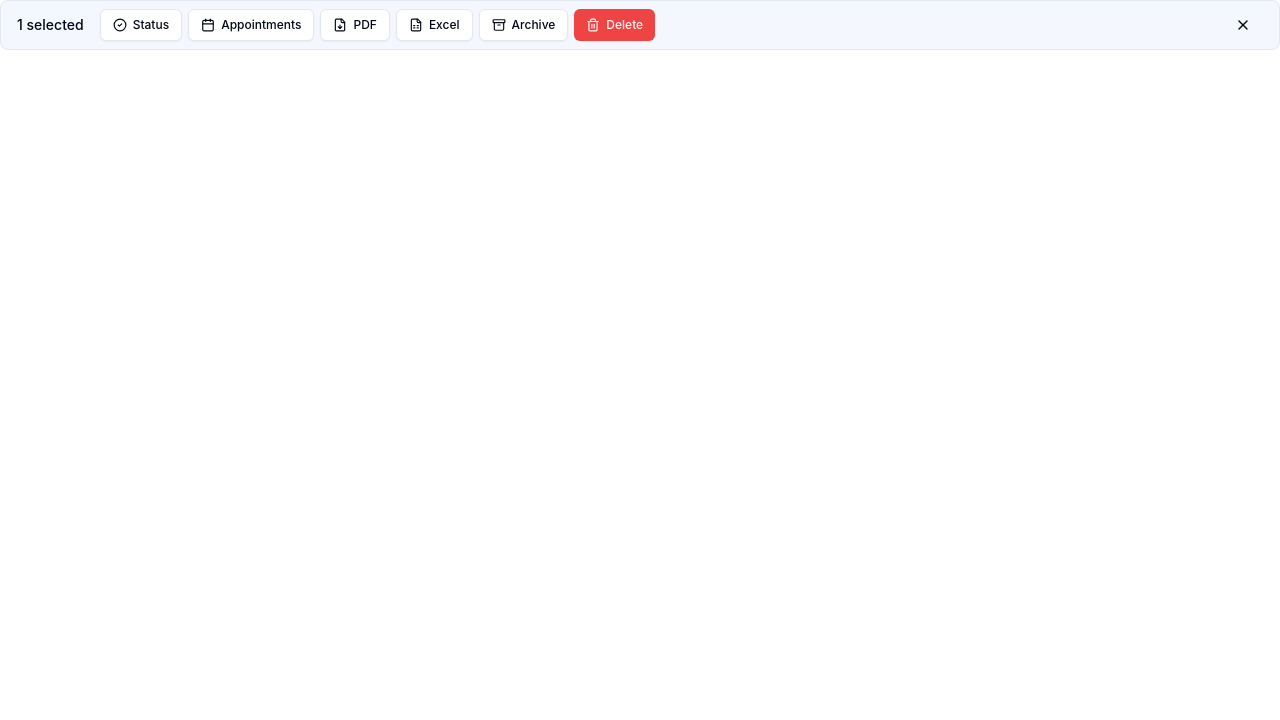
Test case: BulkActionToolbar › opens status change dialog on Status click
Click the button "Status": (141, 25) [100,9,182,41]
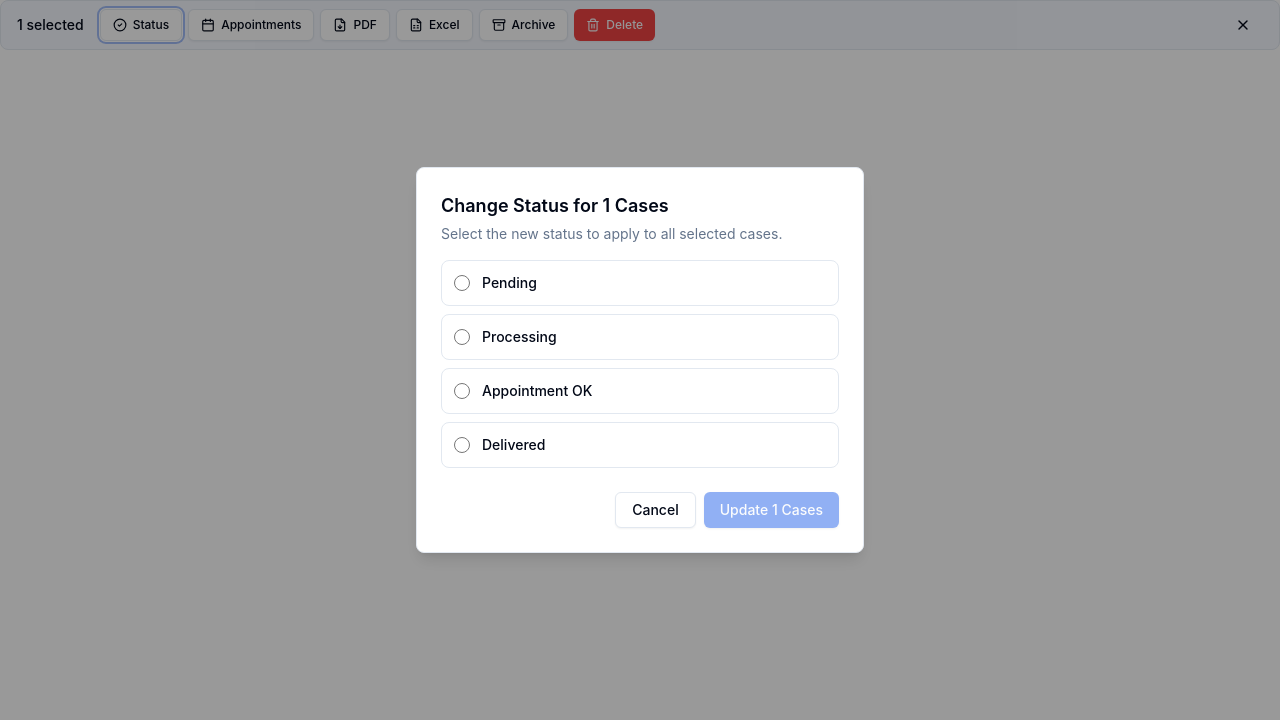
Check: the heading "Change Status for 1 Cases" is shown, box [441,195,669,216]
